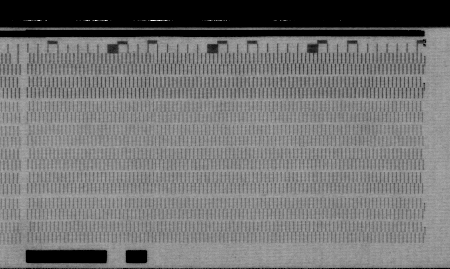Broken hole: (8, 53, 21, 65)
Oblique printing: (419, 75, 429, 92), (419, 196, 430, 211), (420, 220, 431, 234), (419, 52, 429, 66)
